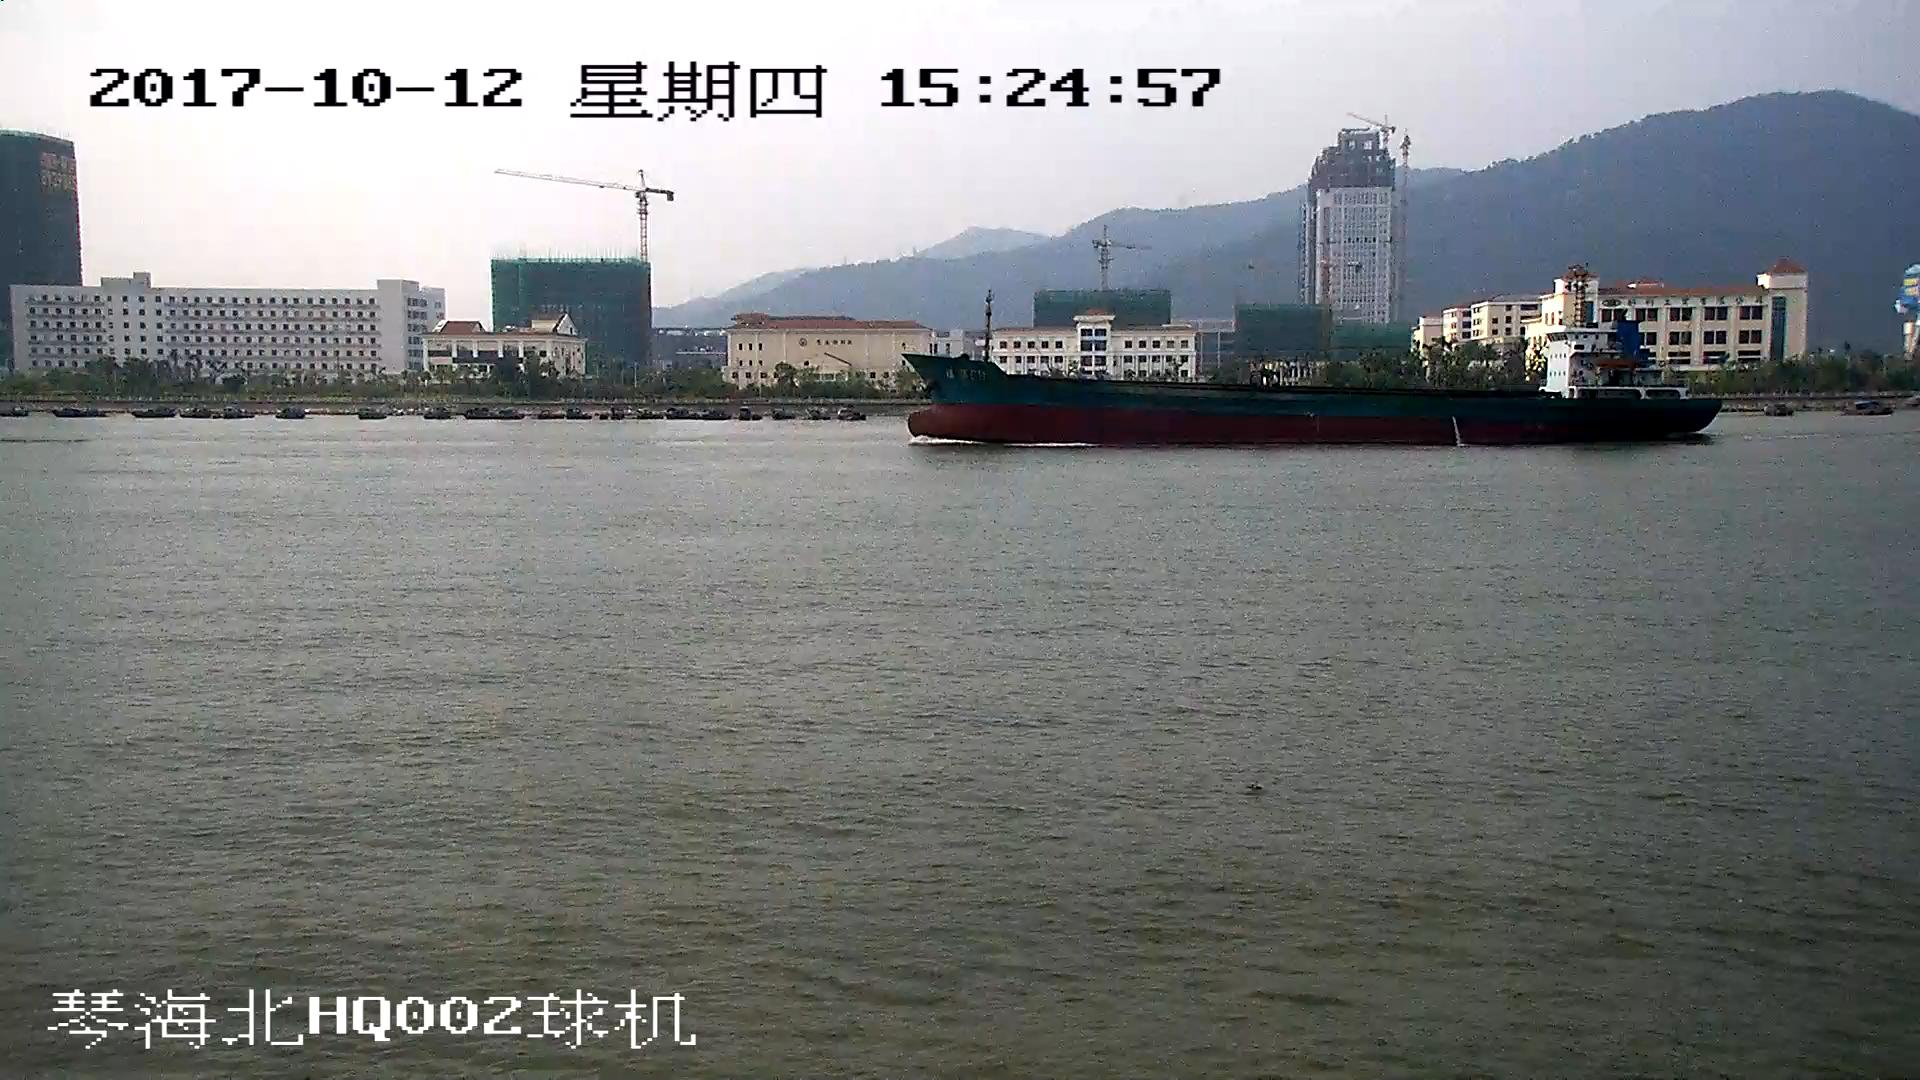general cargo ship: (906, 299, 1720, 443)
